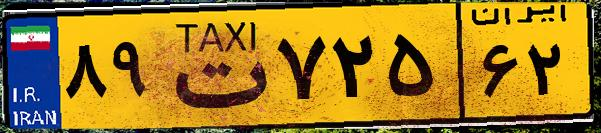2: (330, 28, 385, 110), (525, 38, 570, 115)
5: (385, 28, 445, 110)
6: (475, 38, 525, 113)
7: (270, 28, 330, 110)
8: (57, 26, 110, 100)
9: (110, 28, 158, 98)
ت: (158, 12, 270, 120)
